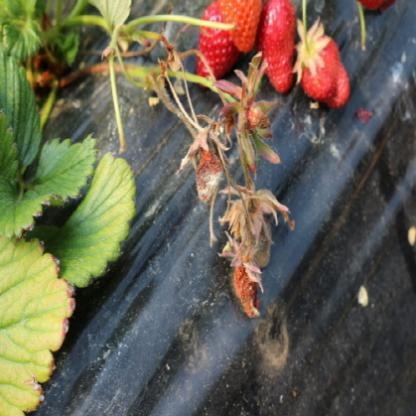Strawberry_Gray_Mold: (220, 186, 296, 270), (178, 122, 233, 206)
